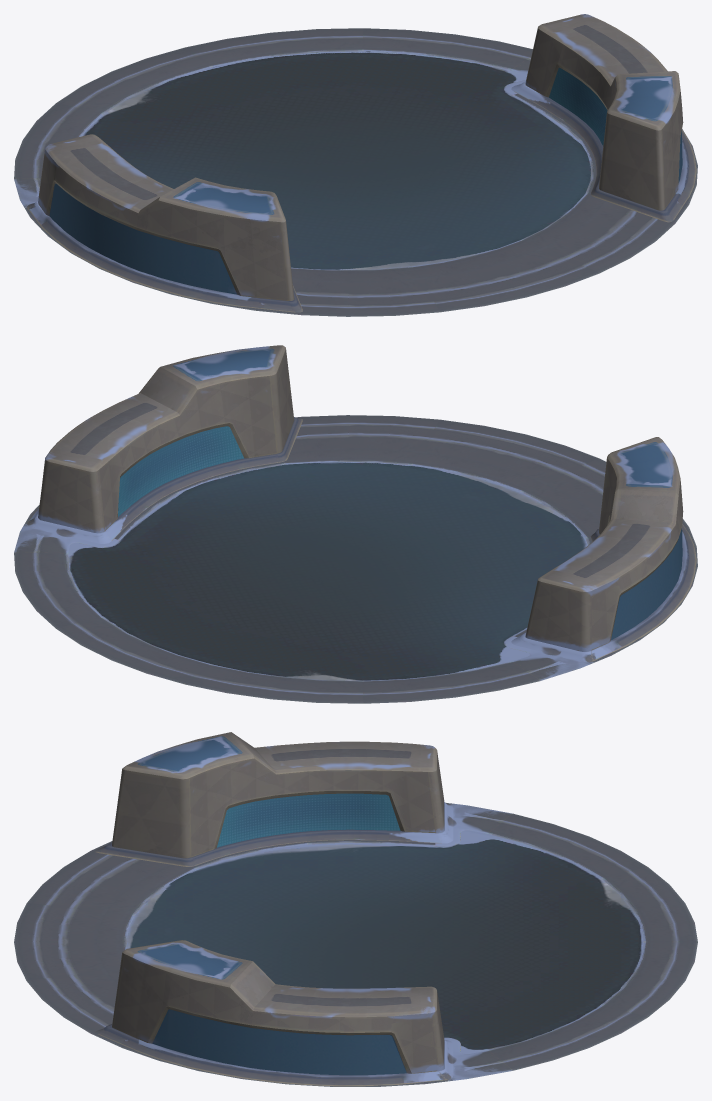
The model's file is pref_sm_beach_winter_boss_middle_02_lv3.fbx.
3 renders of one model, top to bottom at view 1: azimuth 30°, elevation 25°; view 2: azimuth 150°, elevation 25°; view 3: azimuth 270°, elevation 25°, orthographic.
Parts seen in each view (by area): view 1: pref_sm_beach_winter_boss_middle_02_lv3; view 2: pref_sm_beach_winter_boss_middle_02_lv3; view 3: pref_sm_beach_winter_boss_middle_02_lv3.
Boxes of the visible parts, x1,y1,x2,y2 form: pref_sm_beach_winter_boss_middle_02_lv3: [14, 14, 697, 316]; pref_sm_beach_winter_boss_middle_02_lv3: [14, 345, 697, 703]; pref_sm_beach_winter_boss_middle_02_lv3: [14, 732, 697, 1086].
Size of the model in its own units: 12.37 by 1.7 by 12.35.
